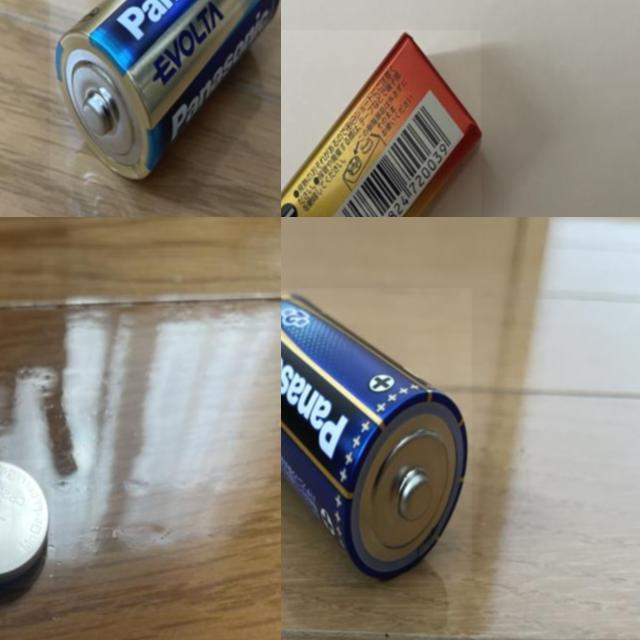9V: (281, 30, 481, 217)
